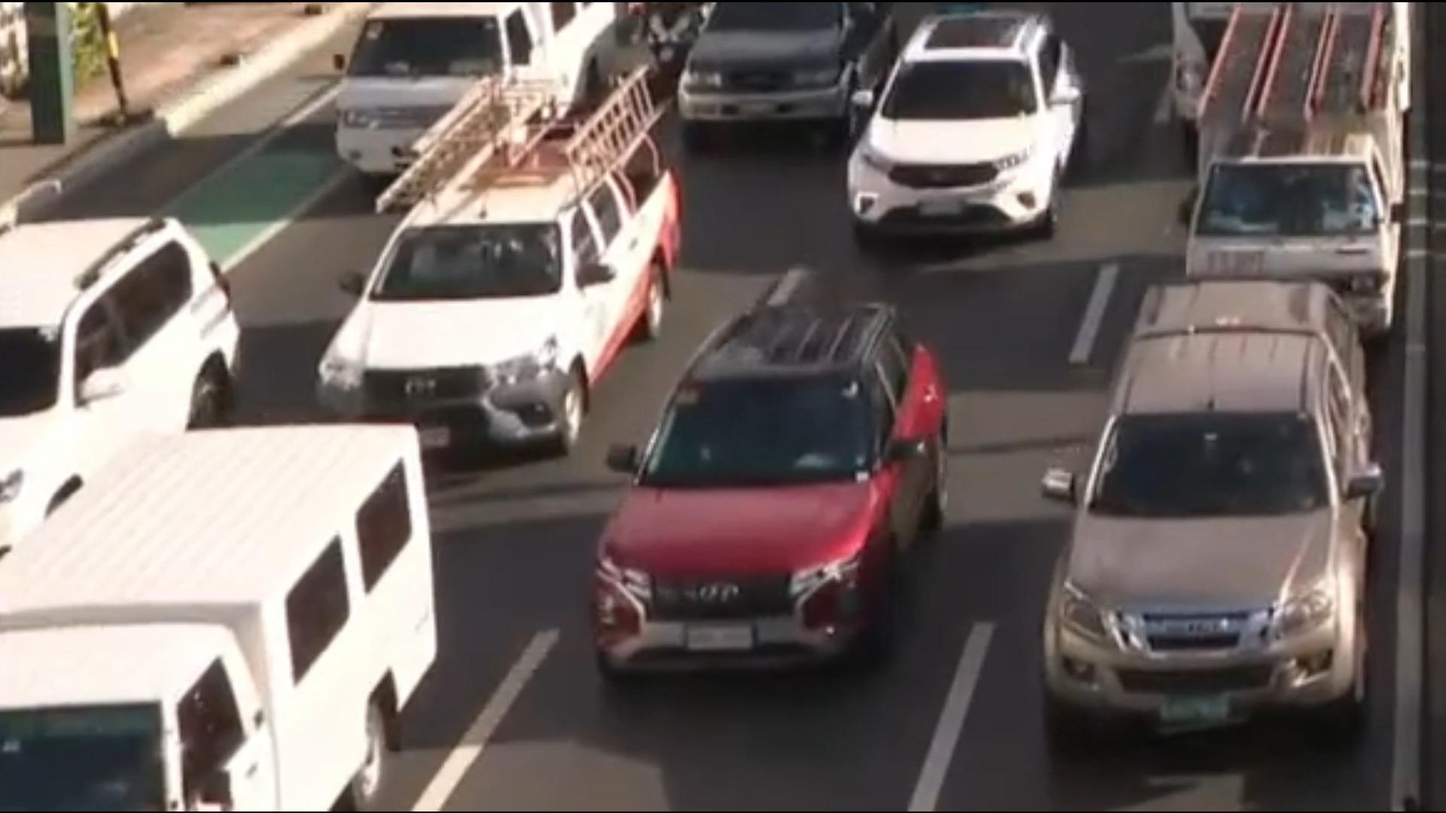Multicab: (0, 422, 431, 813), (1181, 4, 1418, 327), (329, 0, 621, 181)
Pickup: (318, 134, 674, 462)
SUV: (1049, 284, 1386, 715), (593, 301, 953, 676), (0, 215, 235, 559), (845, 13, 1084, 237), (674, 0, 891, 147)
